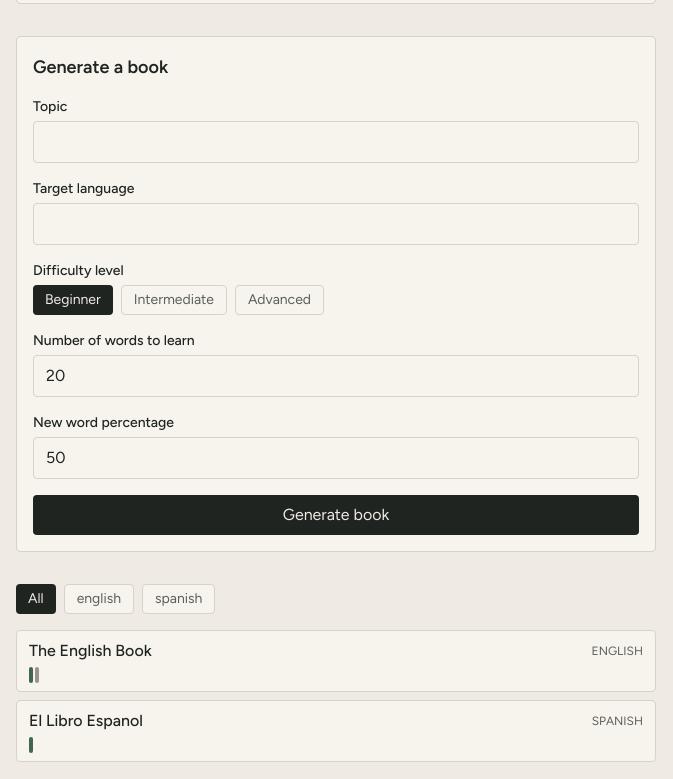
BookshelfPage › groups books by language and "All" shows every book; selecting a language chip filters
(page scrolled)
Check: the text "The English Book" is shown, box [29, 639, 152, 663]
Check: the text "El Libro Espanol" is shown, box [29, 709, 143, 733]
Click the button "spanish".
click(179, 599)  # box [142, 584, 215, 614]
(page scrolled)
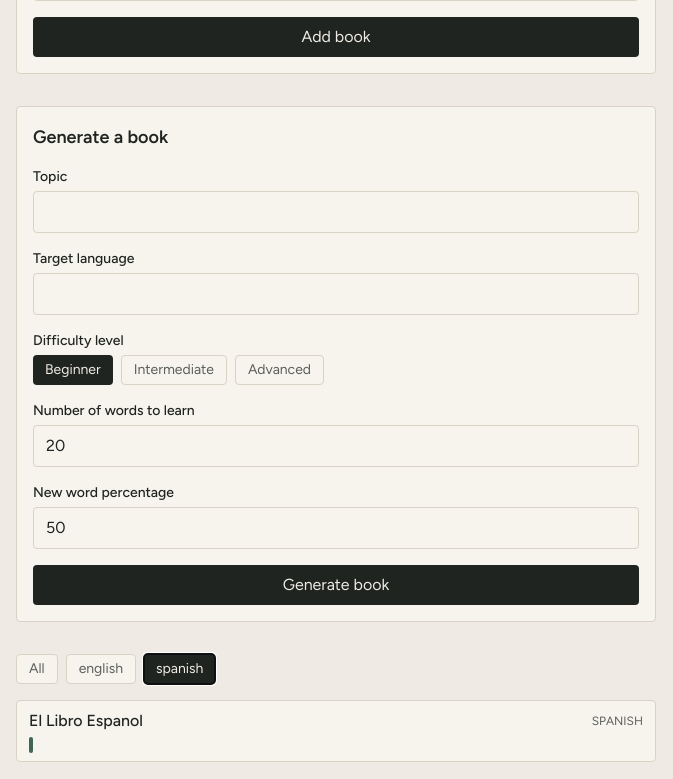
Check: the text "El Libro Espanol" is shown, box [29, 709, 143, 733]
Check: the link "The English Book" is gone
